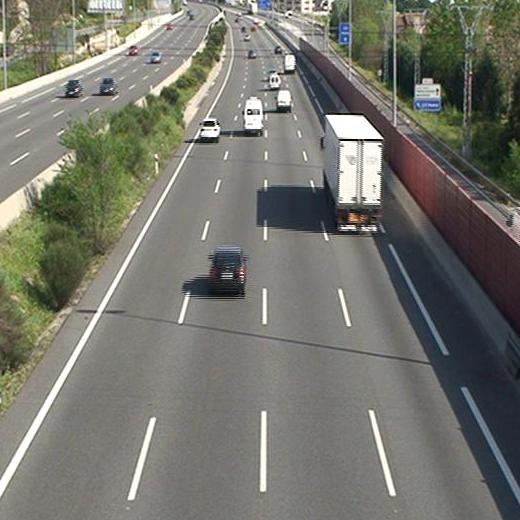car: (209, 248, 245, 292), (199, 119, 220, 141), (247, 48, 256, 58)
truck: (322, 115, 382, 230)
van: (243, 98, 263, 132), (276, 90, 292, 111), (284, 54, 296, 73), (268, 73, 280, 92)
